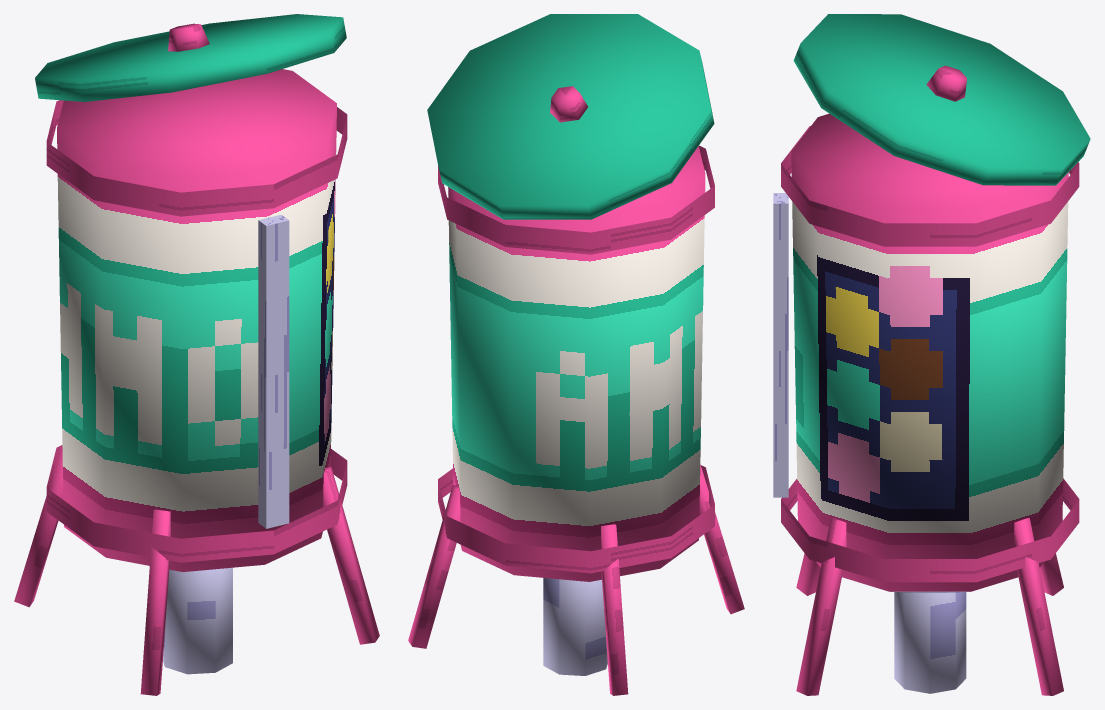
Rendered from Upgrade Big Hopper.fbx.
The picture shows the model from 3 angles, left to right: view 1: azimuth 30°, elevation 25°; view 2: azimuth 150°, elevation 25°; view 3: azimuth 270°, elevation 25°; orthographic projection. The views are drawn at different scales.
Parts seen in each view (by area): view 1: Upgrade Big Hopper hopper drum, Upgrade Big Hopper hopper lid.001, Upgrade Big Hopper hopper sight, Upgrade Big Hopper hopper band 1.00, Upgrade Big Hopper hopper band 0.28, Upgrade Big Hopper hopper feed pipe, Upgrade Big Hopper hopper leg 2, Upgrade Big Hopper hopper leg 3, Upgrade Big Hopper hopper leg 1, Upgrade Big Hopper hopper lid knob; view 2: Upgrade Big Hopper hopper drum, Upgrade Big Hopper hopper lid.001, Upgrade Big Hopper hopper band 0.28, Upgrade Big Hopper hopper band 1.00, Upgrade Big Hopper hopper feed pipe, Upgrade Big Hopper hopper leg 1, Upgrade Big Hopper hopper leg 0, Upgrade Big Hopper hopper leg 2, Upgrade Big Hopper hopper lid knob; view 3: Upgrade Big Hopper hopper drum, Upgrade Big Hopper hopper lid.001, Upgrade Big Hopper hopper band 0.28, Upgrade Big Hopper hopper band 1.00, Upgrade Big Hopper hopper feed pipe, Upgrade Big Hopper hopper sight, Upgrade Big Hopper hopper leg 3, Upgrade Big Hopper hopper leg 0, Upgrade Big Hopper hopper lid knob, Upgrade Big Hopper hopper leg 1, Upgrade Big Hopper hopper leg 2.
Part boxes in pixels (x1,y1,x2,y2): Upgrade Big Hopper hopper drum: (57, 69, 336, 571); Upgrade Big Hopper hopper lid.001: (35, 14, 346, 101); Upgrade Big Hopper hopper sight: (258, 214, 289, 528); Upgrade Big Hopper hopper band 1.00: (46, 100, 347, 216); Upgrade Big Hopper hopper band 0.28: (46, 445, 347, 562); Upgrade Big Hopper hopper feed pipe: (163, 567, 232, 674); Upgrade Big Hopper hopper leg 2: (140, 509, 170, 695); Upgrade Big Hopper hopper leg 3: (323, 467, 379, 644); Upgrade Big Hopper hopper leg 1: (14, 445, 63, 607); Upgrade Big Hopper hopper lid knob: (168, 23, 209, 51); Upgrade Big Hopper hopper drum: (448, 146, 705, 581); Upgrade Big Hopper hopper lid.001: (427, 14, 714, 219); Upgrade Big Hopper hopper band 0.28: (438, 465, 714, 573); Upgrade Big Hopper hopper band 1.00: (438, 145, 714, 254); Upgrade Big Hopper hopper feed pipe: (543, 578, 607, 675); Upgrade Big Hopper hopper leg 1: (601, 524, 628, 695); Upgrade Big Hopper hopper leg 0: (408, 485, 460, 648); Upgrade Big Hopper hopper leg 2: (699, 464, 744, 614); Upgrade Big Hopper hopper lid knob: (550, 86, 587, 122); Upgrade Big Hopper hopper drum: (791, 113, 1068, 591); Upgrade Big Hopper hopper lid.001: (793, 14, 1090, 185); Upgrade Big Hopper hopper band 0.28: (781, 478, 1079, 582); Upgrade Big Hopper hopper band 1.00: (781, 126, 1079, 246); Upgrade Big Hopper hopper feed pipe: (894, 592, 966, 693); Upgrade Big Hopper hopper sight: (773, 193, 788, 497); Upgrade Big Hopper hopper leg 3: (796, 518, 846, 695); Upgrade Big Hopper hopper leg 0: (1014, 518, 1063, 695); Upgrade Big Hopper hopper lid knob: (926, 65, 966, 101); Upgrade Big Hopper hopper leg 1: (1039, 553, 1063, 595); Upgrade Big Hopper hopper leg 2: (796, 553, 820, 595).
Size of the model in its own units: 0.5706 by 1.36 by 0.6169.
4 materials, 4 textured.
